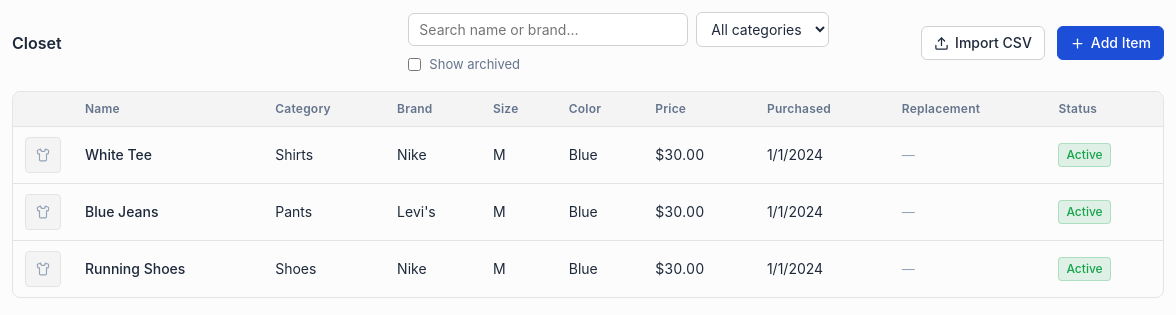
Test: ClosetView › filters by search term
The image size is (1176, 315).
Type "jeans" into the field with placeholder "Search name or brand…".
click(548, 30); type("jeans")  # box [408,13,688,46]
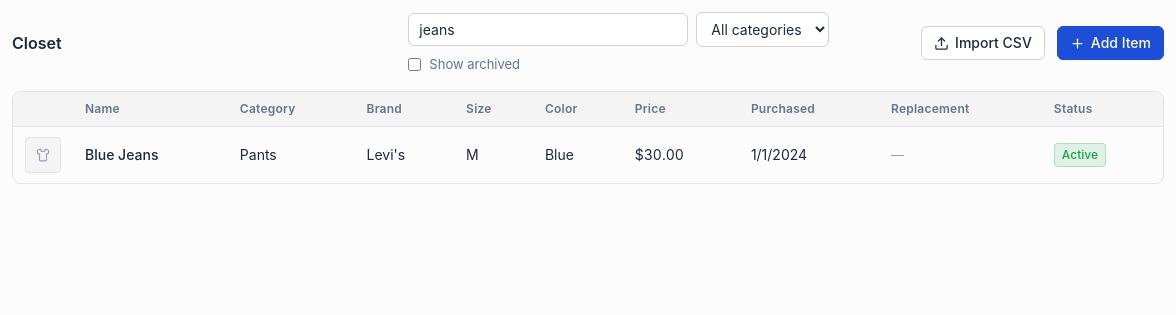
Expected: the text "Blue Jeans" is shown, [73,126,228,182]
Expected: the text "White Tee" is gone
